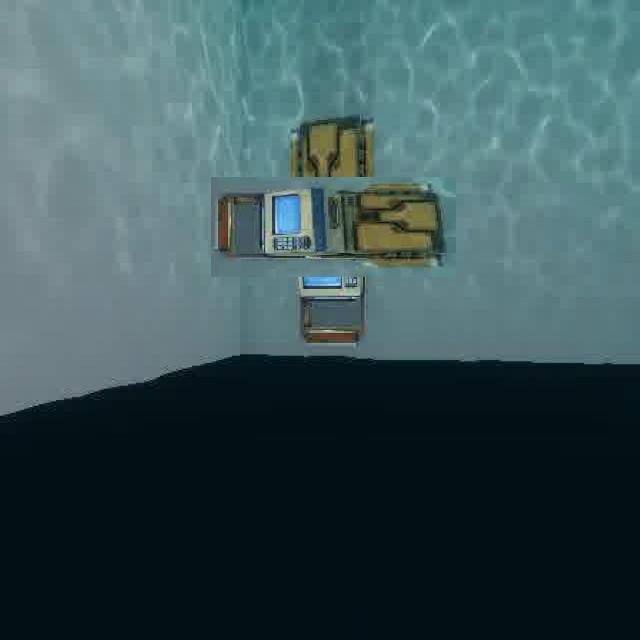Control Panel: (247, 141, 420, 314)
